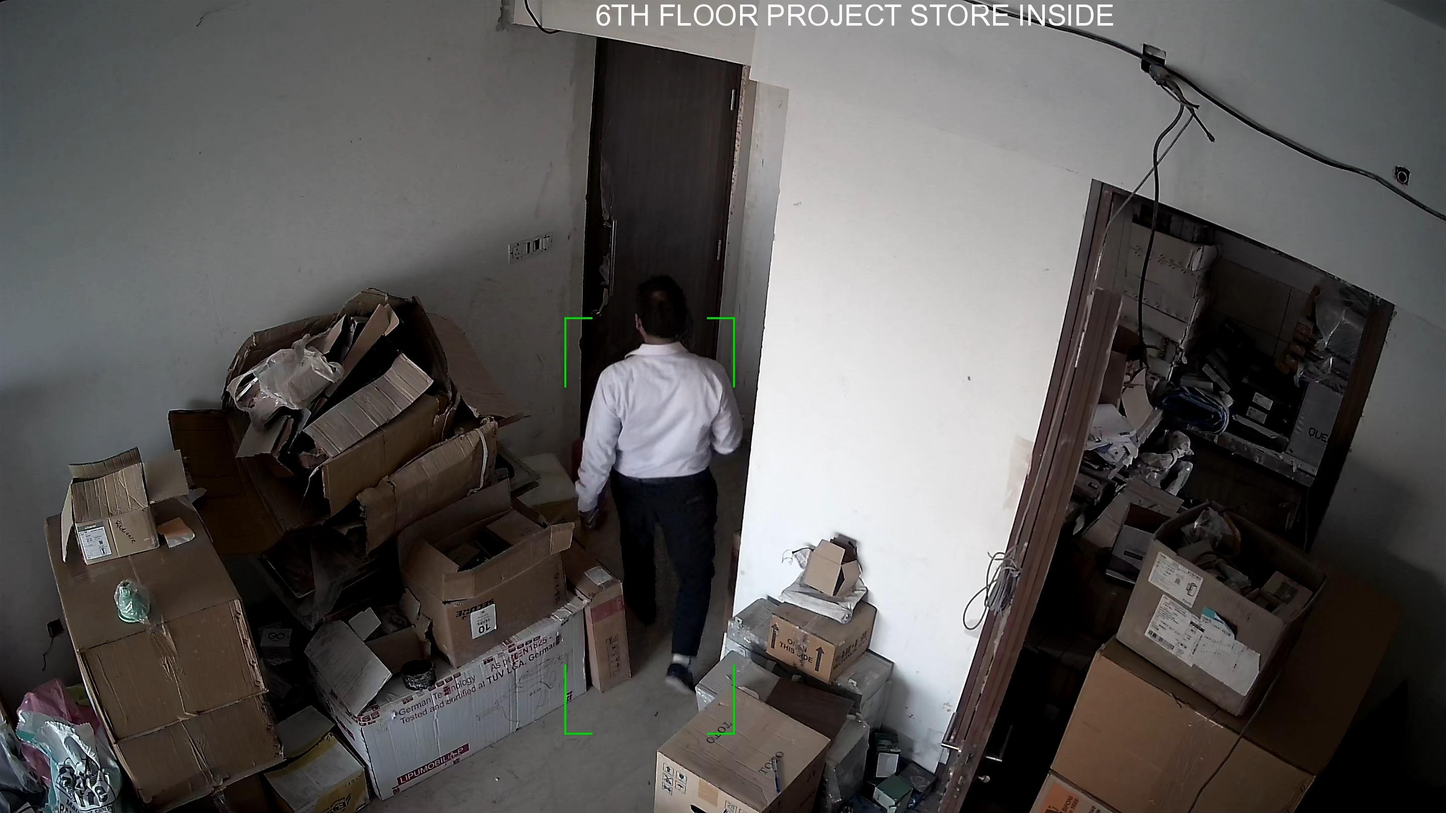Door-Close: (562, 28, 748, 463)
